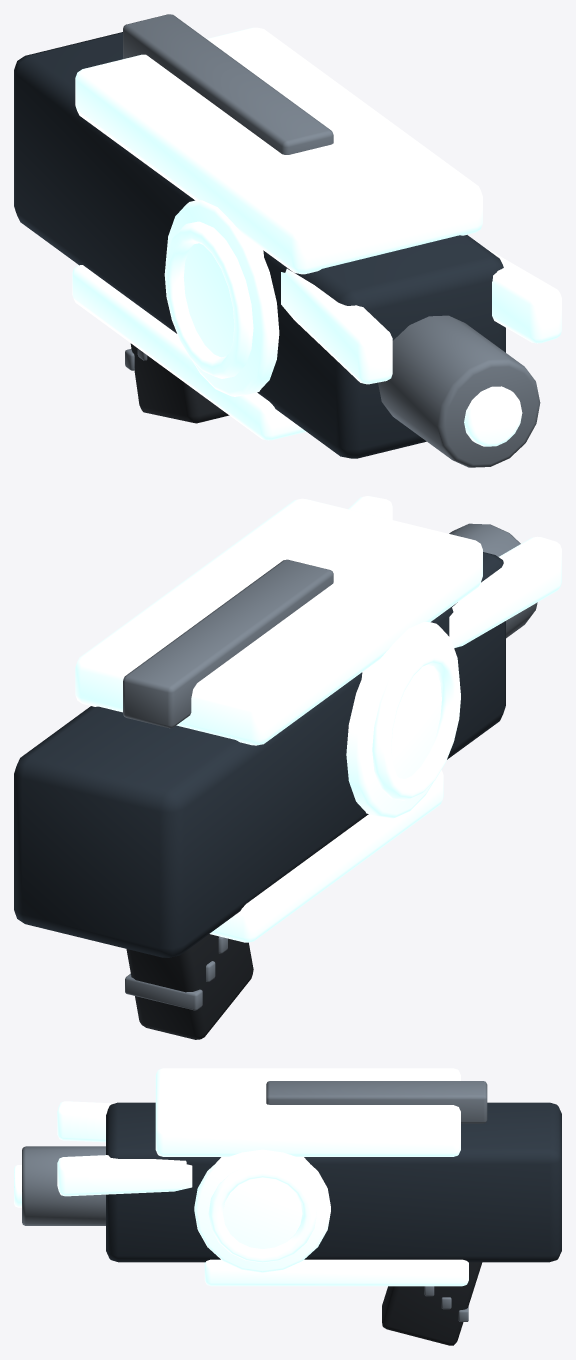
Rendered from Sentinel_NovaBlaster.fbx.
3 views of the same model, one above another, from view 1: azimuth 30°, elevation 25°; view 2: azimuth 150°, elevation 25°; view 3: azimuth 270°, elevation 25° (orthographic). The views are drawn at different scales.
Visible parts, largest first — view 1: Receiver.002, UpperArmor.001, Muzzle.001, TopRail.002, EnergyChamber.001, LowerArmor.001, EnergyRingLeft.001, FluxForkLeft, FluxForkRight, Grip.002, MuzzleGlow.001; view 2: Receiver.002, UpperArmor.001, TopRail.002, EnergyChamber.001, LowerArmor.001, Grip.002, EnergyRingLeft.001, FluxForkLeft, Muzzle.001, GripRib_03.002, FluxForkRight; view 3: Receiver.002, UpperArmor.001, EnergyChamber.001, LowerArmor.001, TopRail.002, Muzzle.001, FluxForkRight, Grip.002, EnergyRingRight.001, FluxForkLeft.
Boxes of the visible parts, box(x1,y1,x2,y2) form: Receiver.002: box(14, 32, 505, 458); UpperArmor.001: box(75, 27, 482, 274); Muzzle.001: box(378, 315, 540, 467); TopRail.002: box(123, 14, 333, 154); EnergyChamber.001: box(165, 200, 279, 396); LowerArmor.001: box(72, 265, 306, 440); EnergyRingLeft.001: box(164, 221, 253, 378); FluxForkLeft: box(281, 268, 392, 384); FluxForkRight: box(483, 246, 561, 343); Grip.002: box(130, 343, 229, 423); MuzzleGlow.001: box(464, 386, 522, 446); Receiver.002: box(14, 552, 505, 957); UpperArmor.001: box(75, 498, 482, 745); TopRail.002: box(123, 559, 333, 728); EnergyChamber.001: box(346, 622, 459, 818); LowerArmor.001: box(209, 770, 443, 942); Grip.002: box(126, 934, 253, 1039); EnergyRingLeft.001: box(372, 643, 460, 800); FluxForkLeft: box(449, 536, 561, 648); Muzzle.001: box(449, 523, 537, 638); GripRib_03.002: box(125, 973, 202, 1010); FluxForkRight: box(348, 496, 392, 519); Receiver.002: box(106, 1102, 561, 1262); UpperArmor.001: box(155, 1068, 460, 1156); EnergyChamber.001: box(194, 1149, 330, 1272); LowerArmor.001: box(204, 1259, 468, 1286); TopRail.002: box(266, 1081, 487, 1123); Muzzle.001: box(22, 1146, 105, 1225); FluxForkRight: box(57, 1155, 192, 1196); Grip.002: box(382, 1262, 482, 1345); EnergyRingRight.001: box(208, 1164, 316, 1262); FluxForkLeft: box(57, 1101, 114, 1142).
Bounding box in the file's own units: 122 × 193 × 385.
